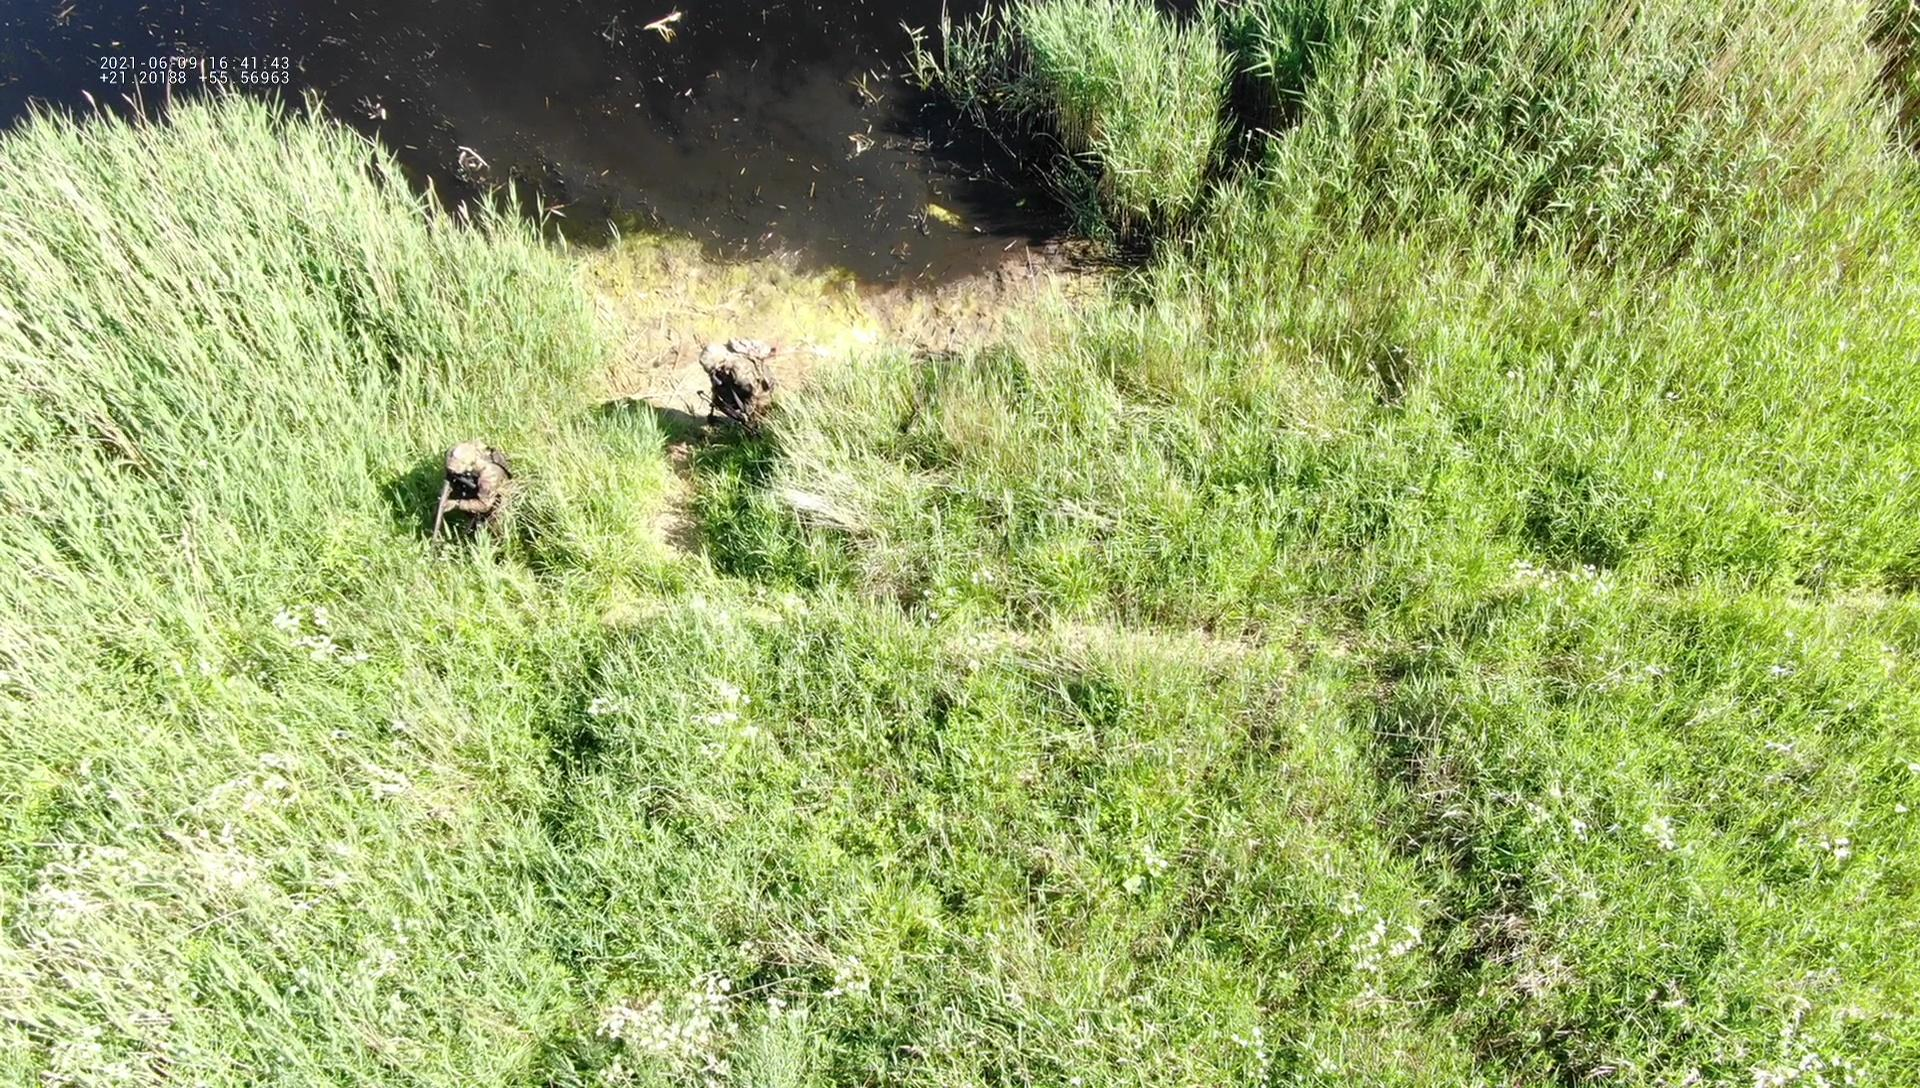Soldier: (433, 439, 514, 553), (698, 335, 775, 444)
